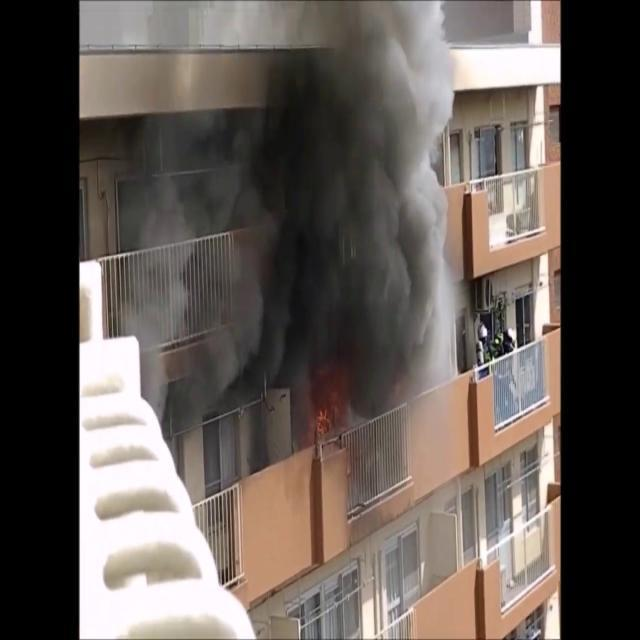Smoke: (108, 0, 459, 446)
